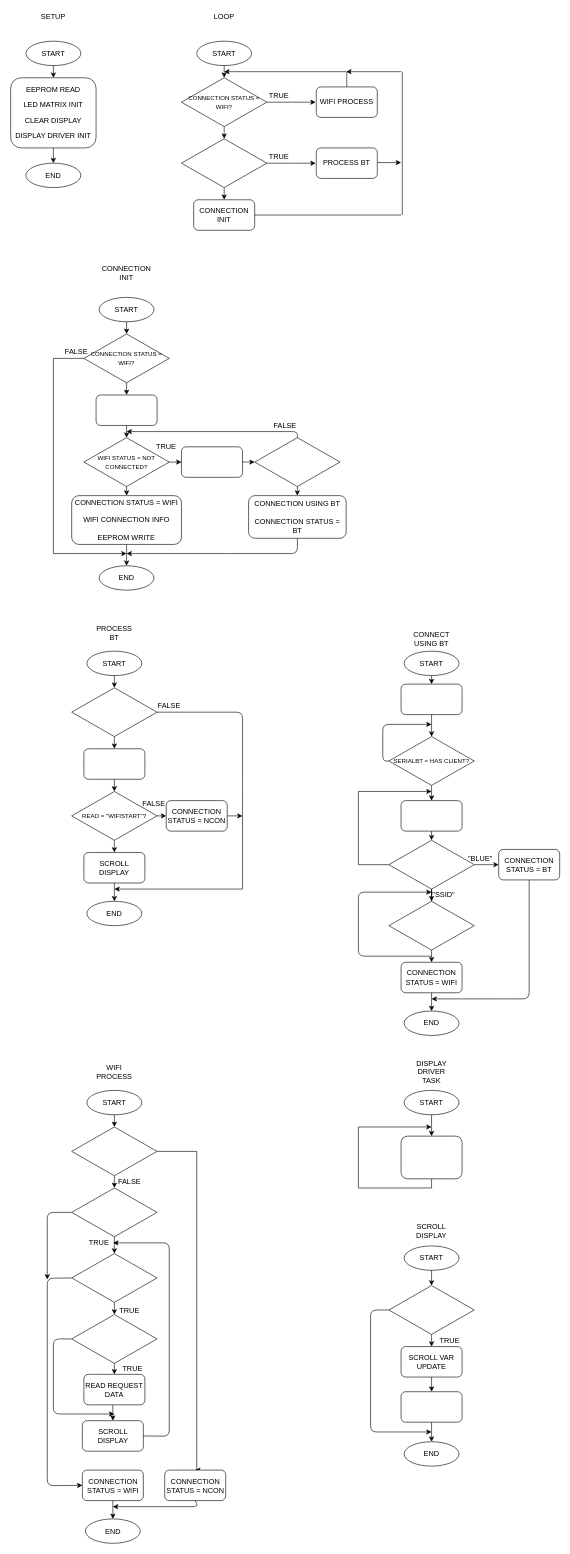
Some shapes in this 570 by 1554 pixel diagram are drawn without their labels. The centre of each missing label's shape, as x and y in pixels:
ARRAYTX = CONVERT (DISPLAYRGB): (x=431, y=1406)
CLIENT AVAILABLE?: (x=114, y=1338)
CLIENT CONNECTED?: (x=114, y=1277)
CONNECTION STATUS = BT?: (x=224, y=163)
NEW CLIENT?: (x=114, y=1212)
READ: (x=114, y=763)
READ = "PASS"?: (x=431, y=925)
READ = ?: (x=431, y=864)
READ BLUETOOTH DATA: (x=431, y=815)
RETRIES --: (x=211, y=461)
RETRIES = 0?: (x=297, y=461)
RETRIES = 20: (x=126, y=409)
SERIALBT = AVAILABLE?: (x=114, y=712)
SERIALBT BEGIN: (x=431, y=699)
TIMESTAMP > 500 MILLI?: (x=431, y=1309)
WIFISTATUS = NOT CONNECTED?: (x=114, y=1151)
WRITE ARRAYTX TO DISPLAY SHIFT REGISTER: (x=431, y=1157)
